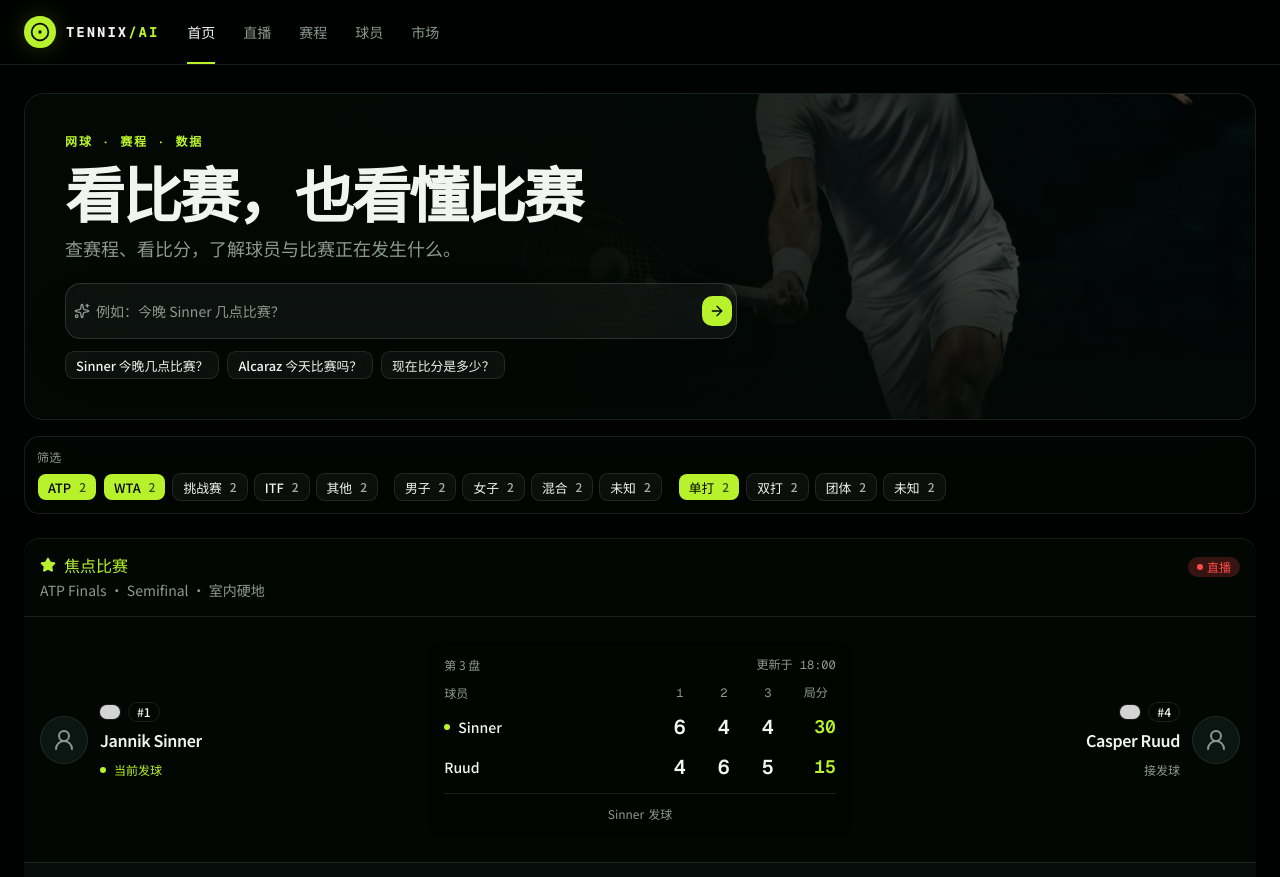
HomePage chat › keeps internal prompt and implementation labels out of the Home answer card
The image size is (1280, 877).
Expected: the text "Jannik Sinner" is shown, [100,730,202,750]
Step 1. Type "根据本场数据分析趋势。" into the field named "向 Tennix 提问" → (395, 311), box [90,295,701,327]
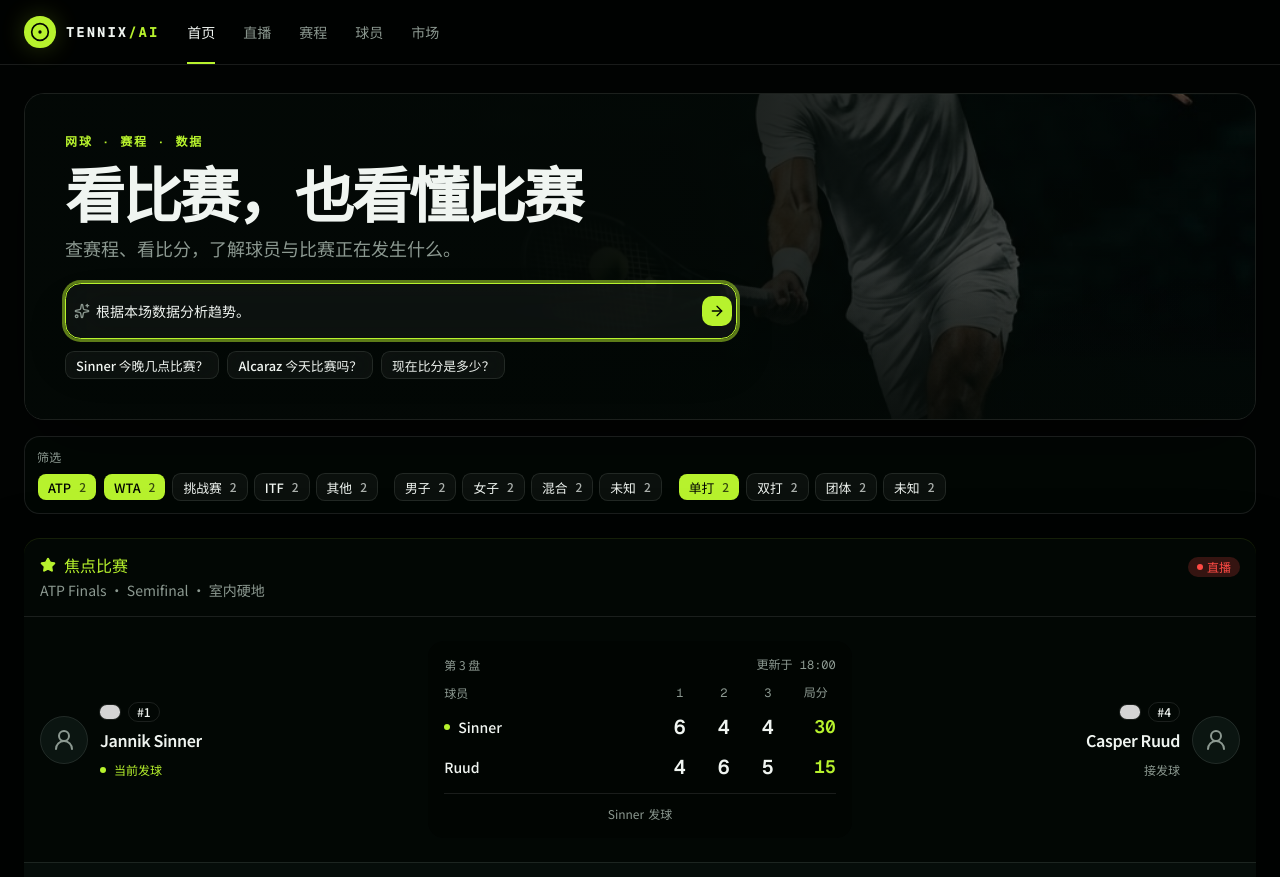
Step 2. Press Enter
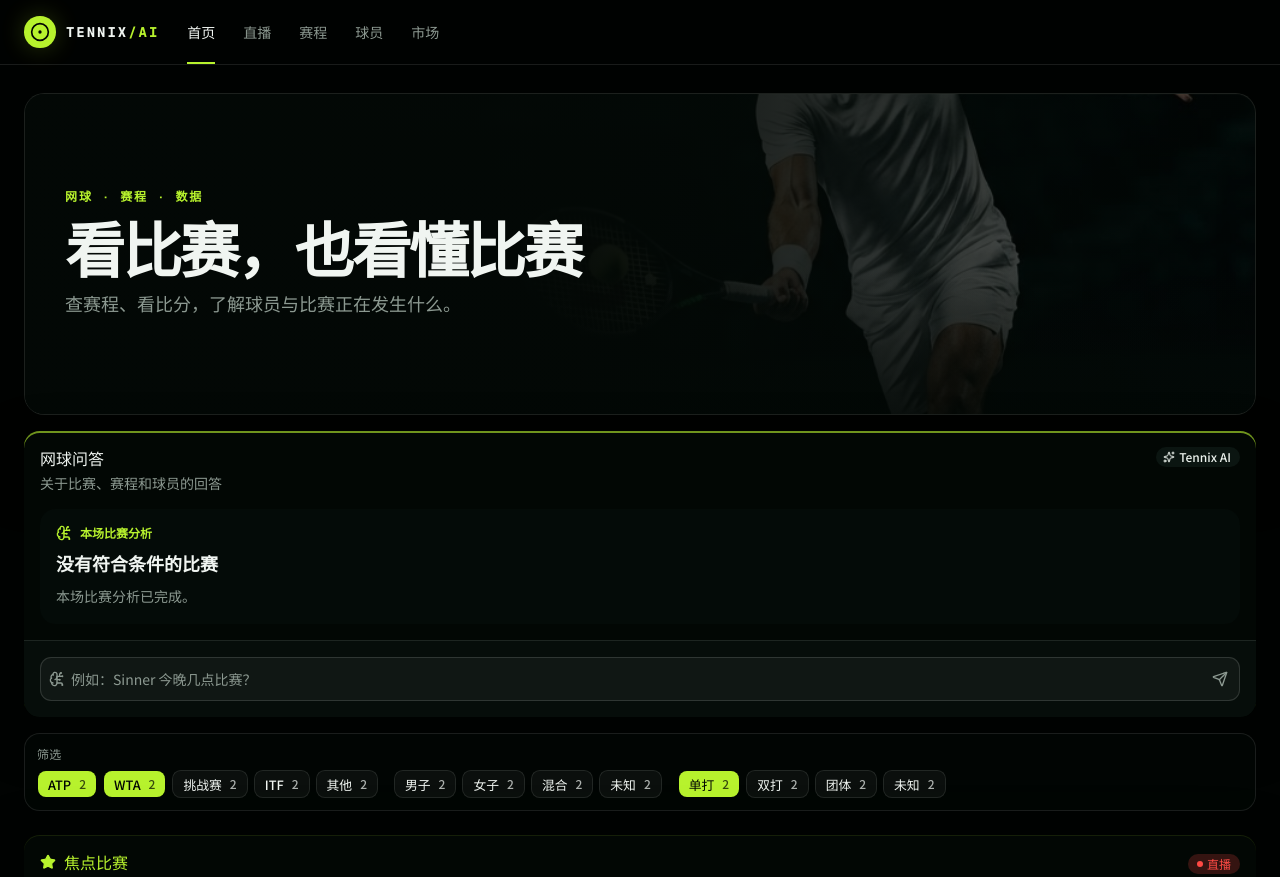
Now the text "本场比赛分析" is shown, box [80,524,152,541]
Now the text "本场比赛分析已完成。" is shown, box [56,586,196,606]
